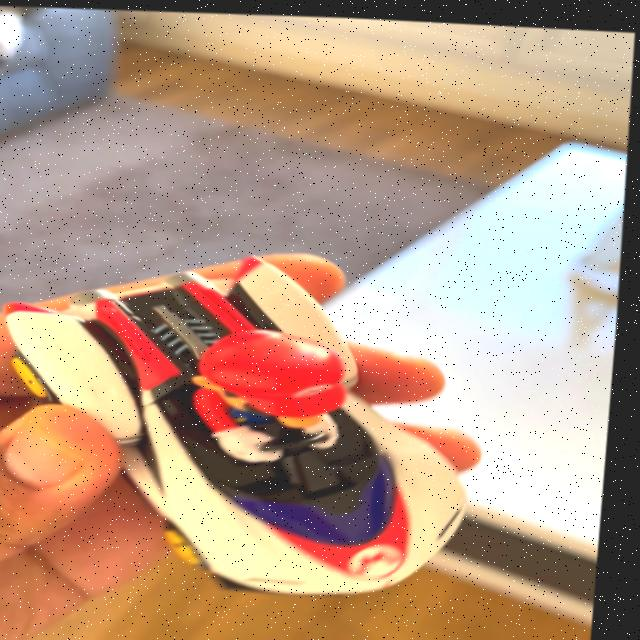mario: (0, 231, 510, 606)
